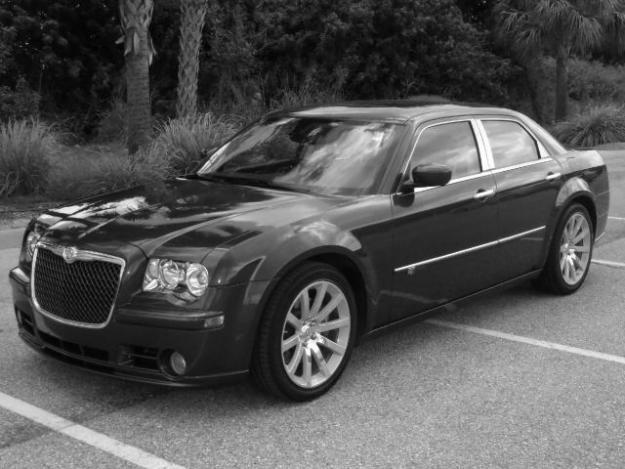car: (7, 104, 613, 408)
